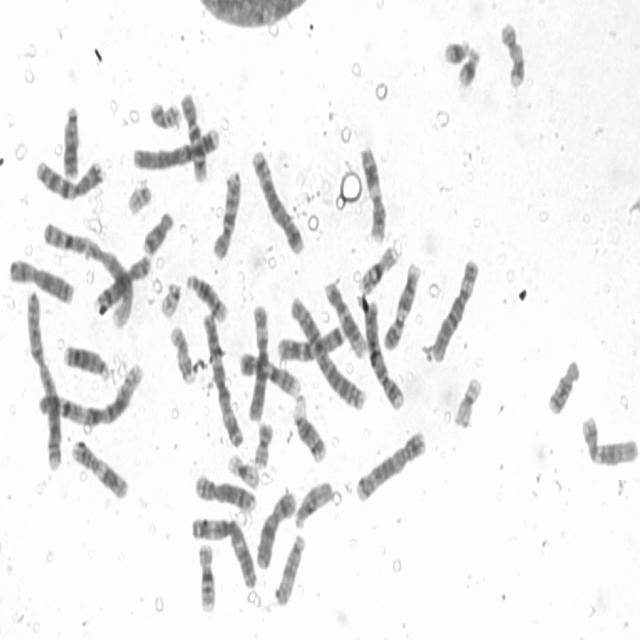A1: (42, 221, 135, 330), (38, 362, 144, 428)
A2: (289, 294, 367, 413), (23, 290, 63, 472)
A3: (201, 314, 245, 449), (190, 513, 258, 588)
B4: (364, 299, 406, 414), (131, 127, 220, 172)
B5: (249, 148, 306, 255), (354, 430, 426, 503)
C10: (211, 169, 243, 259), (179, 93, 208, 185)
C11: (70, 438, 130, 500), (360, 146, 388, 242)
C12: (322, 279, 368, 359), (582, 416, 638, 468)
C6: (431, 258, 481, 365), (247, 305, 269, 422)
C7: (34, 160, 104, 202), (277, 323, 346, 363)
C8: (93, 256, 152, 317), (194, 473, 256, 515)
C9: (383, 261, 421, 351), (238, 350, 302, 397)
D13: (60, 343, 111, 382), (62, 105, 80, 181)
D14: (293, 394, 328, 464), (186, 275, 230, 323)
D15: (273, 533, 307, 606), (294, 481, 334, 529)
E16: (360, 245, 398, 295), (198, 543, 217, 615)
E17: (498, 21, 526, 88), (168, 323, 196, 385)
E18: (548, 359, 580, 416), (142, 211, 174, 257)
F19: (453, 376, 483, 428), (227, 453, 261, 490)
F20: (253, 421, 274, 468), (150, 102, 182, 132)
G21: (457, 47, 481, 90), (443, 38, 470, 65)
G22: (159, 283, 182, 320), (127, 182, 152, 216)
X: (8, 256, 76, 307), (255, 490, 297, 571)
